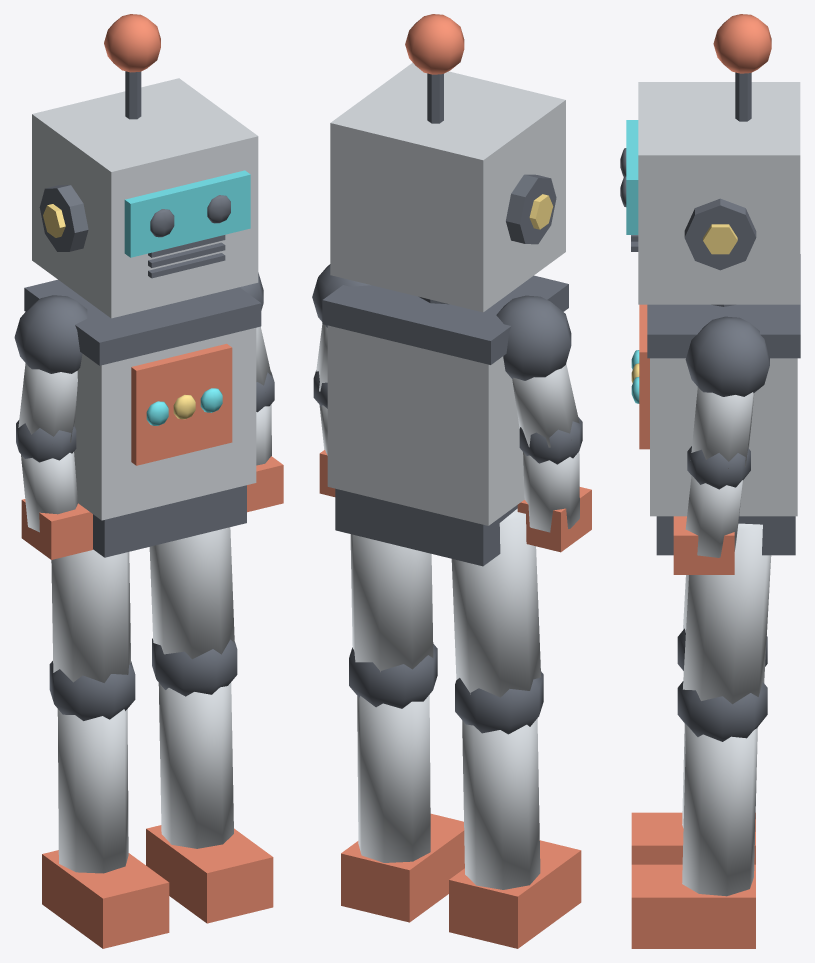
The model's file is meeple_02_roboter_stand.glb.
The picture shows the model from 3 angles, left to right: view 1: azimuth 30°, elevation 25°; view 2: azimuth 150°, elevation 25°; view 3: azimuth 270°, elevation 25°; orthographic projection. The views are drawn at different scales.
Parts seen in each view (by area): view 1: meeple_02_roboter_stand; view 2: meeple_02_roboter_stand; view 3: meeple_02_roboter_stand.
Boxes of the visible parts, x1,y1,x2,y2 form: meeple_02_roboter_stand: [14, 14, 283, 948]; meeple_02_roboter_stand: [312, 14, 591, 948]; meeple_02_roboter_stand: [620, 14, 800, 948].
Bounding box in the file's own units: 0.5143 × 1.7 × 0.3112.
